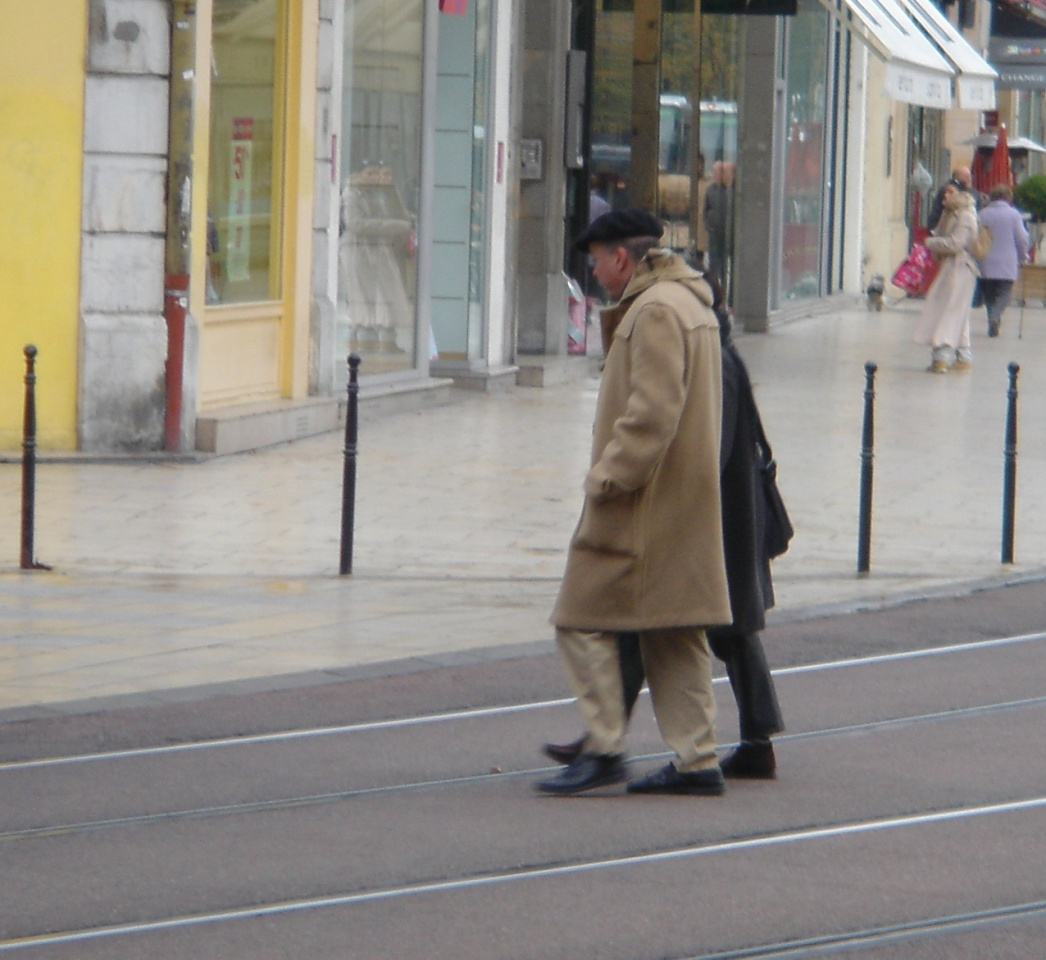person: (559, 217, 730, 795), (928, 175, 975, 373), (978, 181, 1020, 338)
